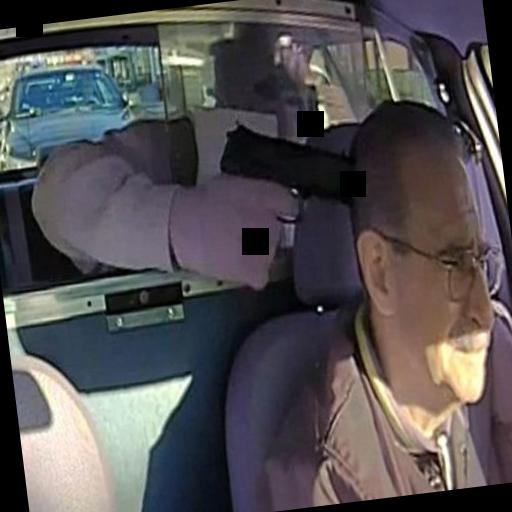Handgun: (205, 103, 367, 290)
